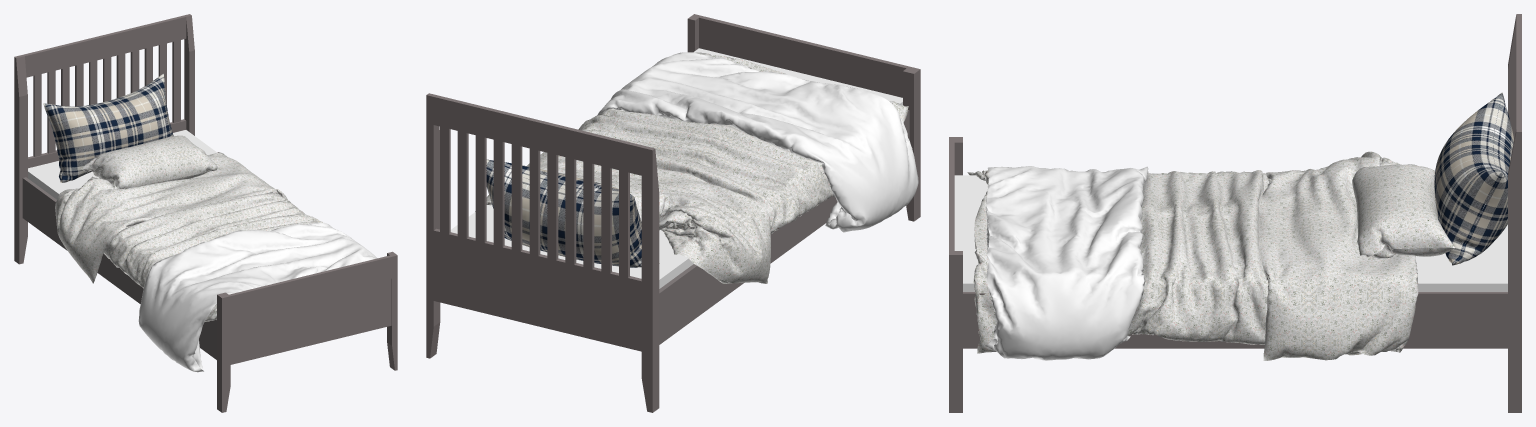
3 renders of one model, left to right at view 1: azimuth 30°, elevation 25°; view 2: azimuth 150°, elevation 25°; view 3: azimuth 270°, elevation 25°, orthographic. The views are drawn at different scales.
Parts seen in each view (by area): view 1: Pattern2D_62965, Mesh4_FrontColor_0, Pattern2D_48611, Pattern2D_48610, Pattern2D_58615, Pattern2D_58617, Mesh5_FrontColor_0, Mesh1_FrontColor_0, Mesh8_FrontColor_0, Mesh7_FrontColor_0, Mesh21_Color_M03_0, Mesh9_FrontColor_0 (+10 smaller); view 2: Pattern2D_62965, Mesh3_FrontColor_0, Pattern2D_48610, Pattern2D_48611, Mesh4_FrontColor_0, Mesh5_FrontColor_0, Mesh1_FrontColor_0, Mesh8_FrontColor_0, Pattern2D_58616, Mesh9_FrontColor_0, Mesh21_Color_M03_0, Mesh7_FrontColor_0 (+13 smaller); view 3: Pattern2D_62965, Pattern2D_48611, Pattern2D_48610, Mesh2_FrontColor_0, Pattern2D_58617, Pattern2D_58615, Mesh21_Color_M03_0, Mesh9_FrontColor_0, Pattern2D_58616, Mesh10_FrontColor_0, Mesh8_FrontColor_0, Pattern2D_58618 (+2 smaller).
Part boxes in pixels (x1,y1,x2,y2): Pattern2D_62965: [138, 222, 376, 372]; Mesh4_FrontColor_0: [229, 255, 391, 364]; Pattern2D_48611: [55, 152, 287, 283]; Pattern2D_48610: [95, 190, 322, 321]; Pattern2D_58615: [43, 73, 173, 182]; Pattern2D_58617: [81, 135, 217, 189]; Mesh5_FrontColor_0: [23, 15, 186, 77]; Mesh1_FrontColor_0: [22, 177, 216, 359]; Mesh8_FrontColor_0: [14, 55, 27, 264]; Mesh7_FrontColor_0: [217, 292, 230, 412]; Mesh21_Color_M03_0: [28, 130, 216, 199]; Mesh9_FrontColor_0: [184, 14, 194, 135]; Pattern2D_62965: [597, 52, 918, 232]; Mesh3_FrontColor_0: [433, 228, 641, 351]; Pattern2D_48610: [578, 54, 908, 283]; Pattern2D_48611: [475, 52, 908, 283]; Mesh4_FrontColor_0: [699, 16, 908, 97]; Mesh5_FrontColor_0: [433, 95, 643, 175]; Mesh1_FrontColor_0: [659, 110, 909, 344]; Mesh8_FrontColor_0: [641, 145, 659, 412]; Pattern2D_58616: [486, 162, 641, 267]; Mesh9_FrontColor_0: [426, 93, 440, 358]; Mesh21_Color_M03_0: [450, 48, 902, 288]; Mesh7_FrontColor_0: [903, 66, 920, 221]; Pattern2D_62965: [985, 166, 1148, 360]; Pattern2D_48611: [967, 151, 1418, 360]; Pattern2D_48610: [974, 170, 1399, 360]; Mesh2_FrontColor_0: [963, 292, 1507, 348]; Pattern2D_58617: [1352, 164, 1454, 256]; Pattern2D_58615: [1434, 93, 1501, 265]; Mesh21_Color_M03_0: [954, 175, 1507, 291]; Mesh9_FrontColor_0: [1508, 128, 1521, 412]; Pattern2D_58616: [1452, 93, 1513, 265]; Mesh10_FrontColor_0: [949, 251, 962, 412]; Mesh8_FrontColor_0: [1508, 14, 1521, 139]; Pattern2D_58618: [1369, 244, 1454, 258].
Size of the model in its own units: 1.26 by 1.12 by 2.07.
29 materials, 6 textured.
